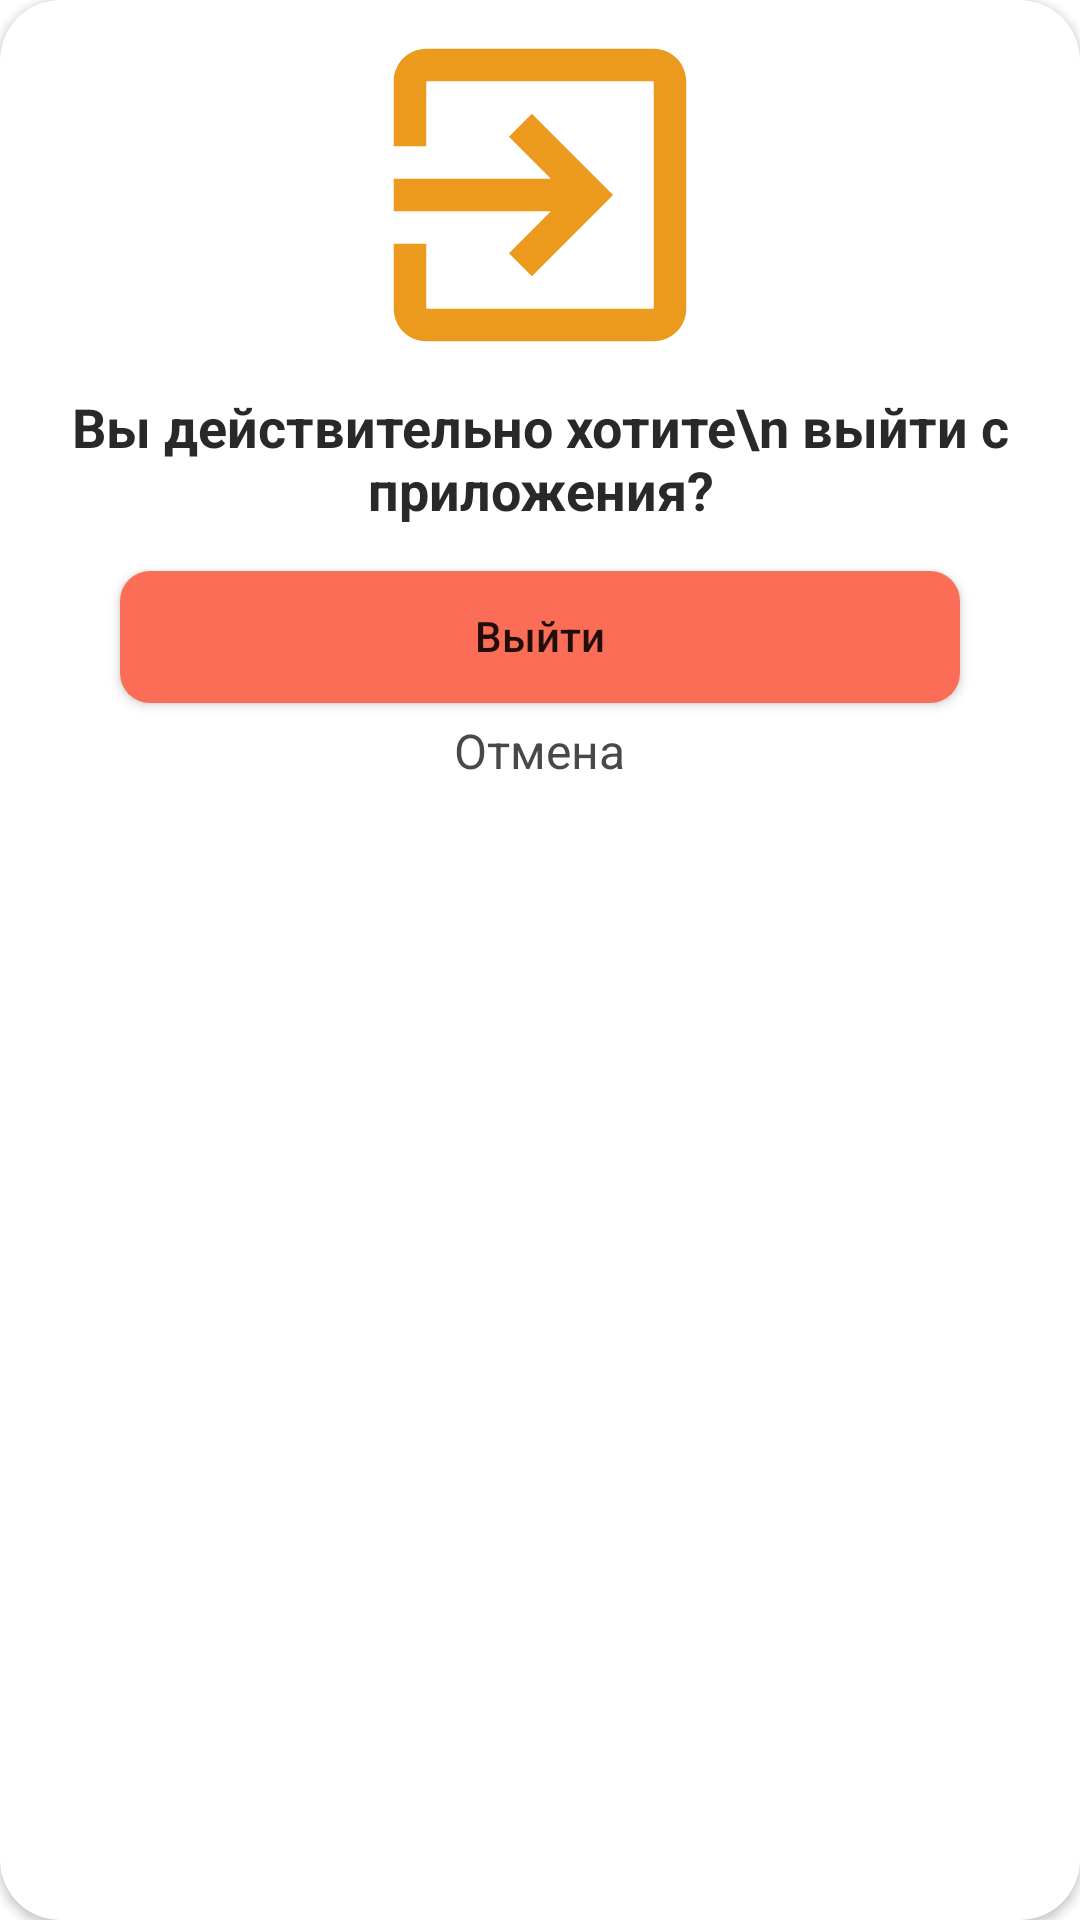

Icon bounding boxes for this 1080x1920 phone screenshot, format {"left": x1, "top": y1, "right": x2, "bottom": y2}:
exit to app: {"left": 393, "top": 48, "right": 687, "bottom": 342}
